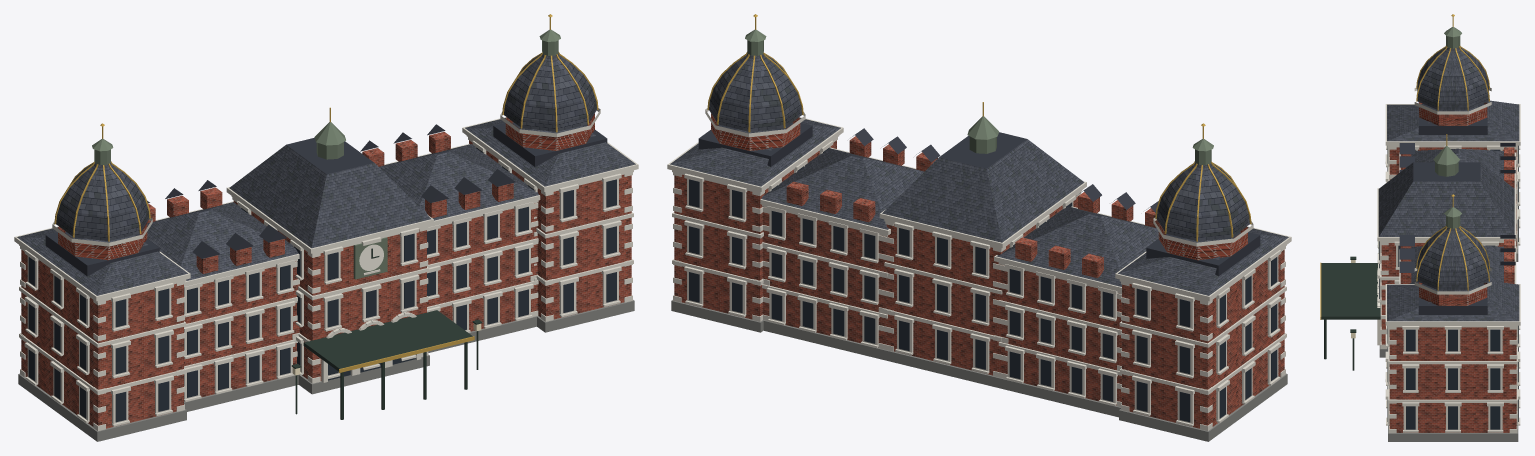
The model's file is station.glb.
The picture shows the model from 3 angles, left to right: view 1: azimuth 30°, elevation 25°; view 2: azimuth 150°, elevation 25°; view 3: azimuth 270°, elevation 25°; orthographic projection. The views are drawn at different scales.
Parts seen in each view (by area): view 1: stn_d_granite.001; view 2: stn_d_granite.001; view 3: stn_d_granite.001.
Part boxes in pixels (x1=…): stn_d_granite.001: x1=14, y1=14, x2=638, y2=441; stn_d_granite.001: x1=667, y1=14, x2=1291, y2=441; stn_d_granite.001: x1=1320, y1=14, x2=1520, y2=441.
Bounding box in the file's own units: 56.9 × 27.96 × 22.1.
Materials: 10 (2 with a texture image).
